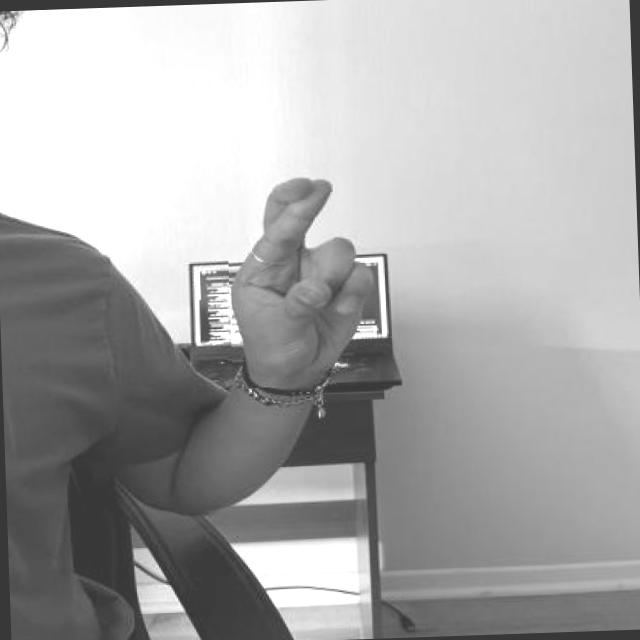R: (224, 166, 372, 388)
